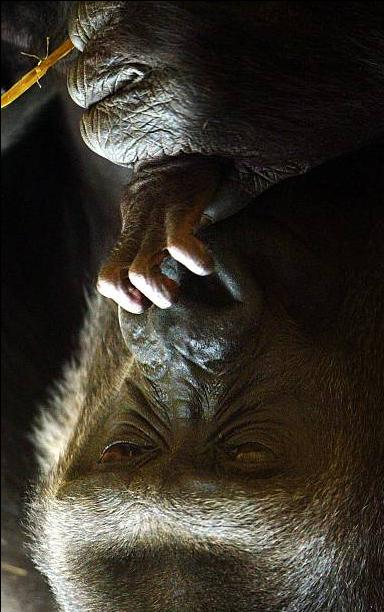gorille_Autres: (0, 0, 381, 608)
